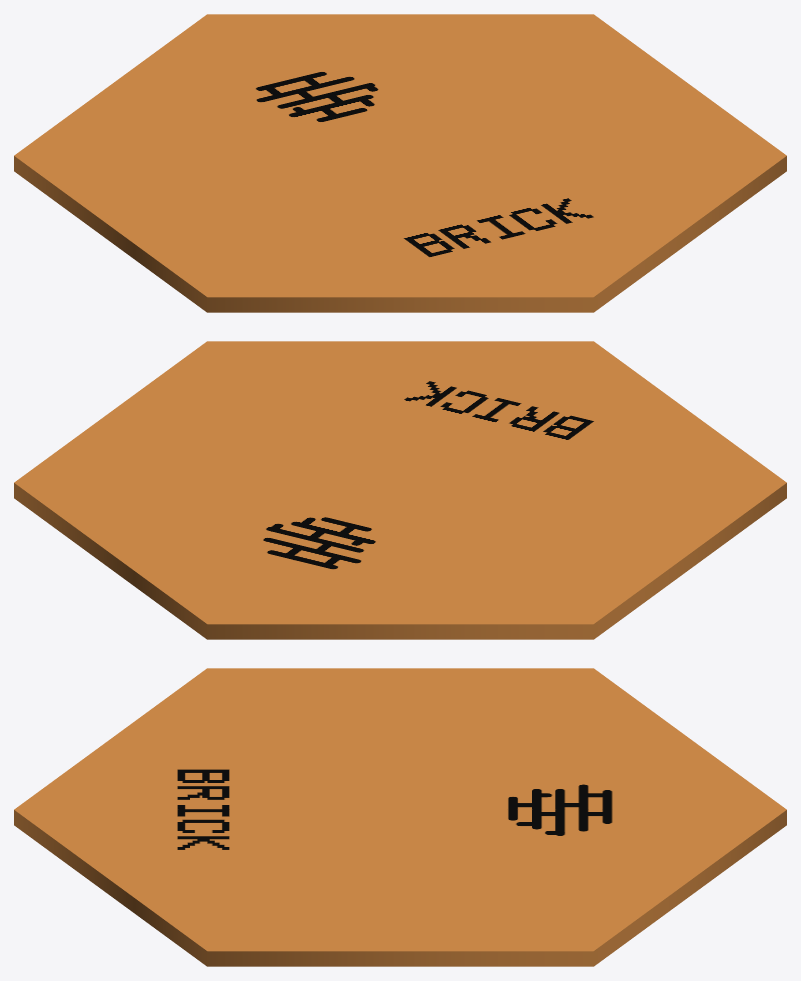
The model's file is tile-brick.gltf.
The picture shows the model from 3 angles, top to bottom: view 1: azimuth 30°, elevation 25°; view 2: azimuth 150°, elevation 25°; view 3: azimuth 270°, elevation 25°; orthographic projection.
Size of the model in its own units: 0.0779 by 0.002 by 0.09.
2 materials, 1 textured.
